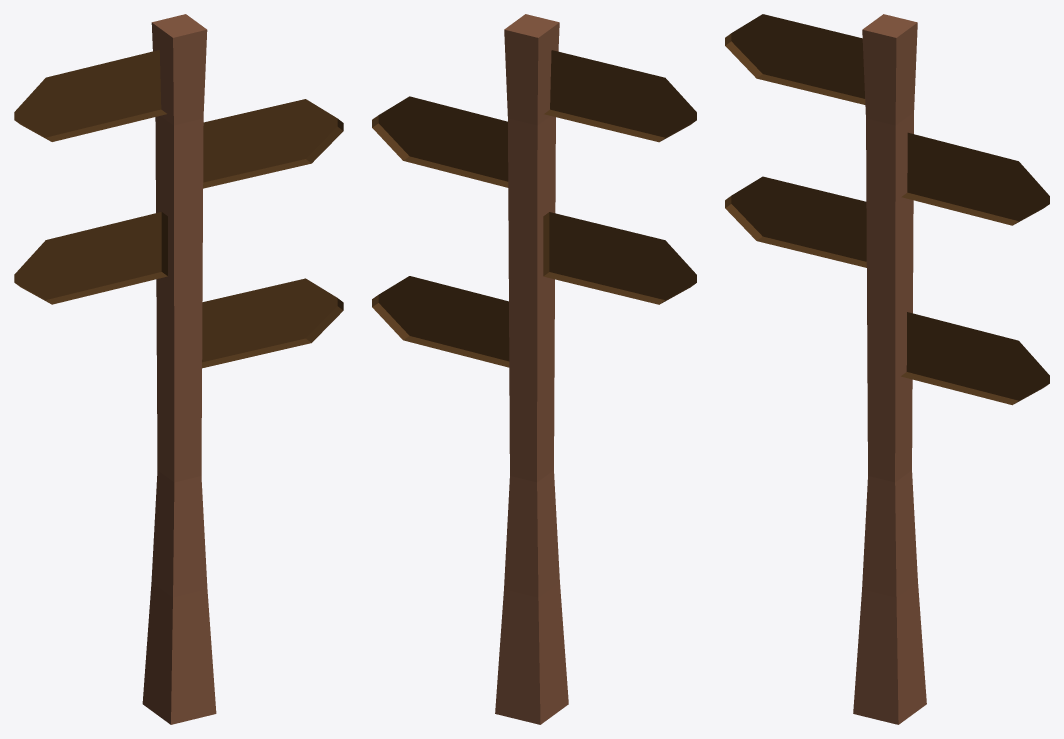
Rendered from Sign.fbx.
3 views of the same model, side by side, from view 1: azimuth 30°, elevation 25°; view 2: azimuth 150°, elevation 25°; view 3: azimuth 330°, elevation 25° (orthographic).
Visible parts, largest first — view 1: Cube.013; view 2: Cube.013; view 3: Cube.013.
Boxes of the visible parts, <box> form: Cube.013: <box>14,14,343,724</box>; Cube.013: <box>372,14,696,724</box>; Cube.013: <box>725,14,1049,724</box>.
Bounding box in the file's own units: 543 × 1105 × 83.15.
